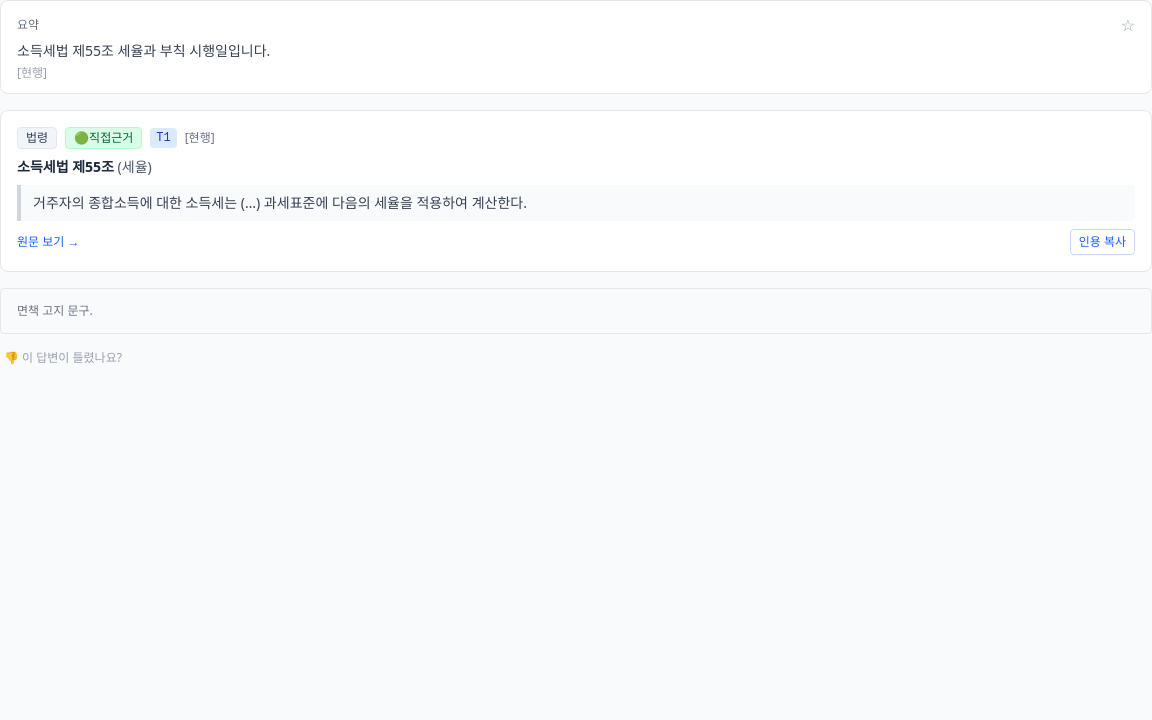
it: AnswerCard — 조용한 틀림 신고 👎 (TAX-030-B, FR-24) › 전송 실패(ok=false) 시 에러 메시지를 표시한다
This screenshot has width=1152, height=720.
Click the button with test id "feedback-open-btn" at (63, 358), box [4,350,122,366]
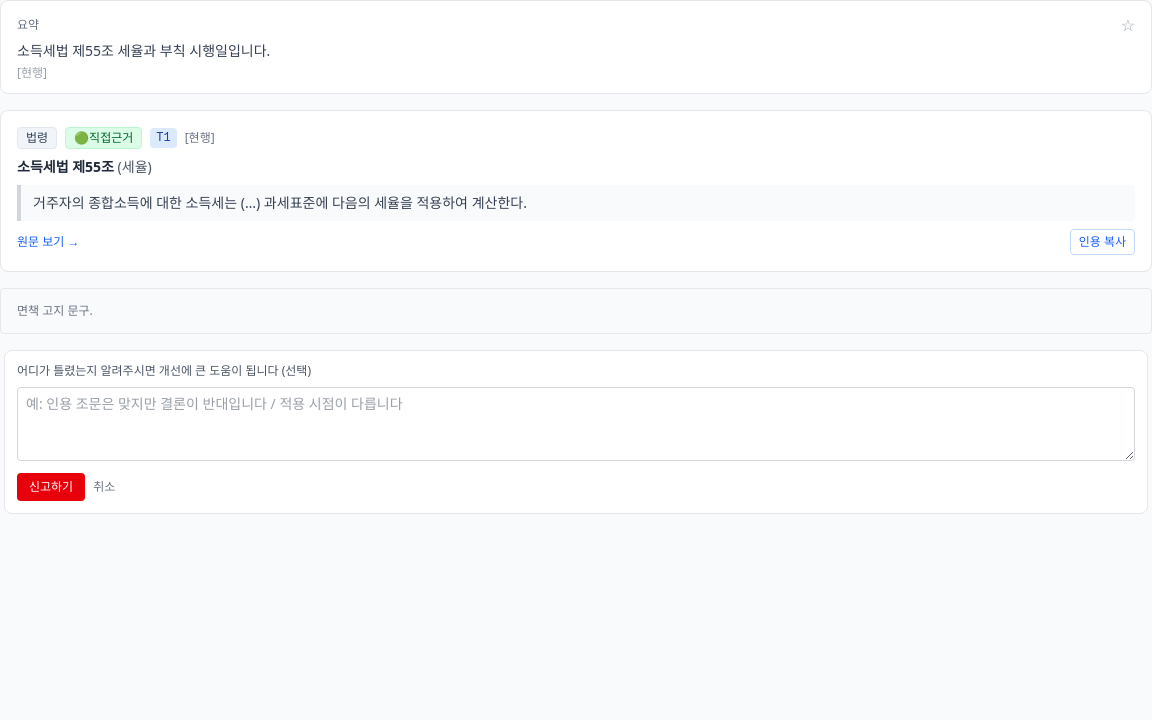
Click the button with test id "feedback-submit-btn" at (51, 486), box [17,472,85,500]
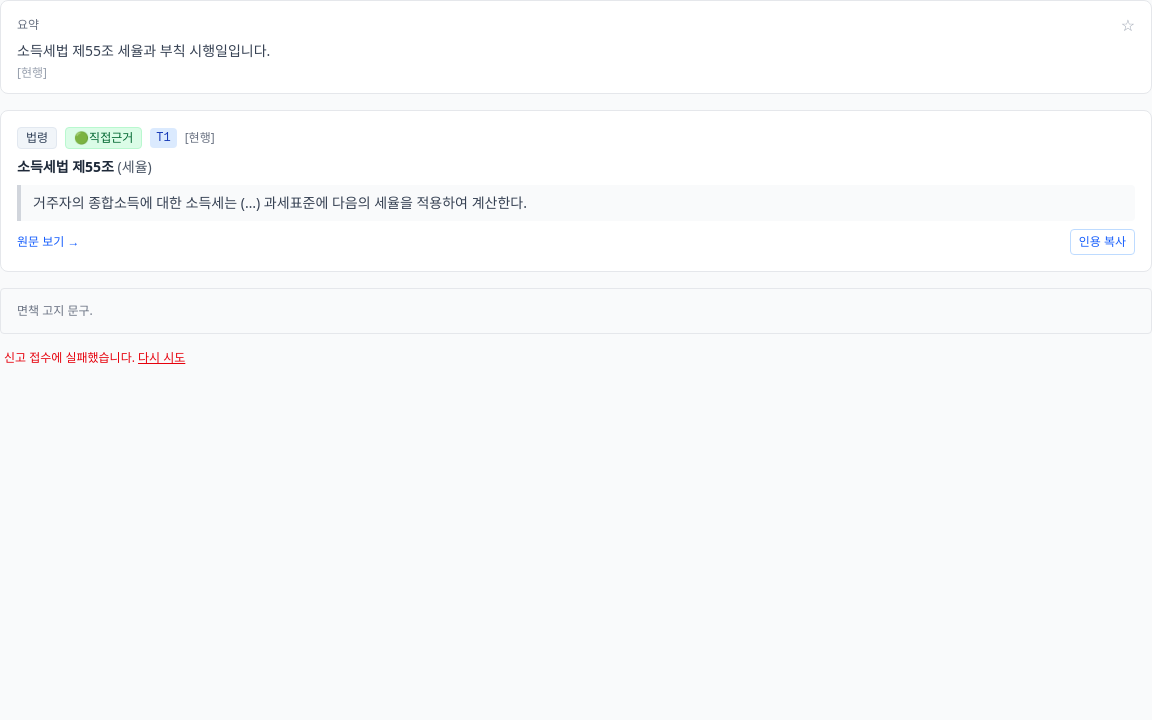
Expected: the element with test id "feedback-error" is shown, [4,348,185,366]
